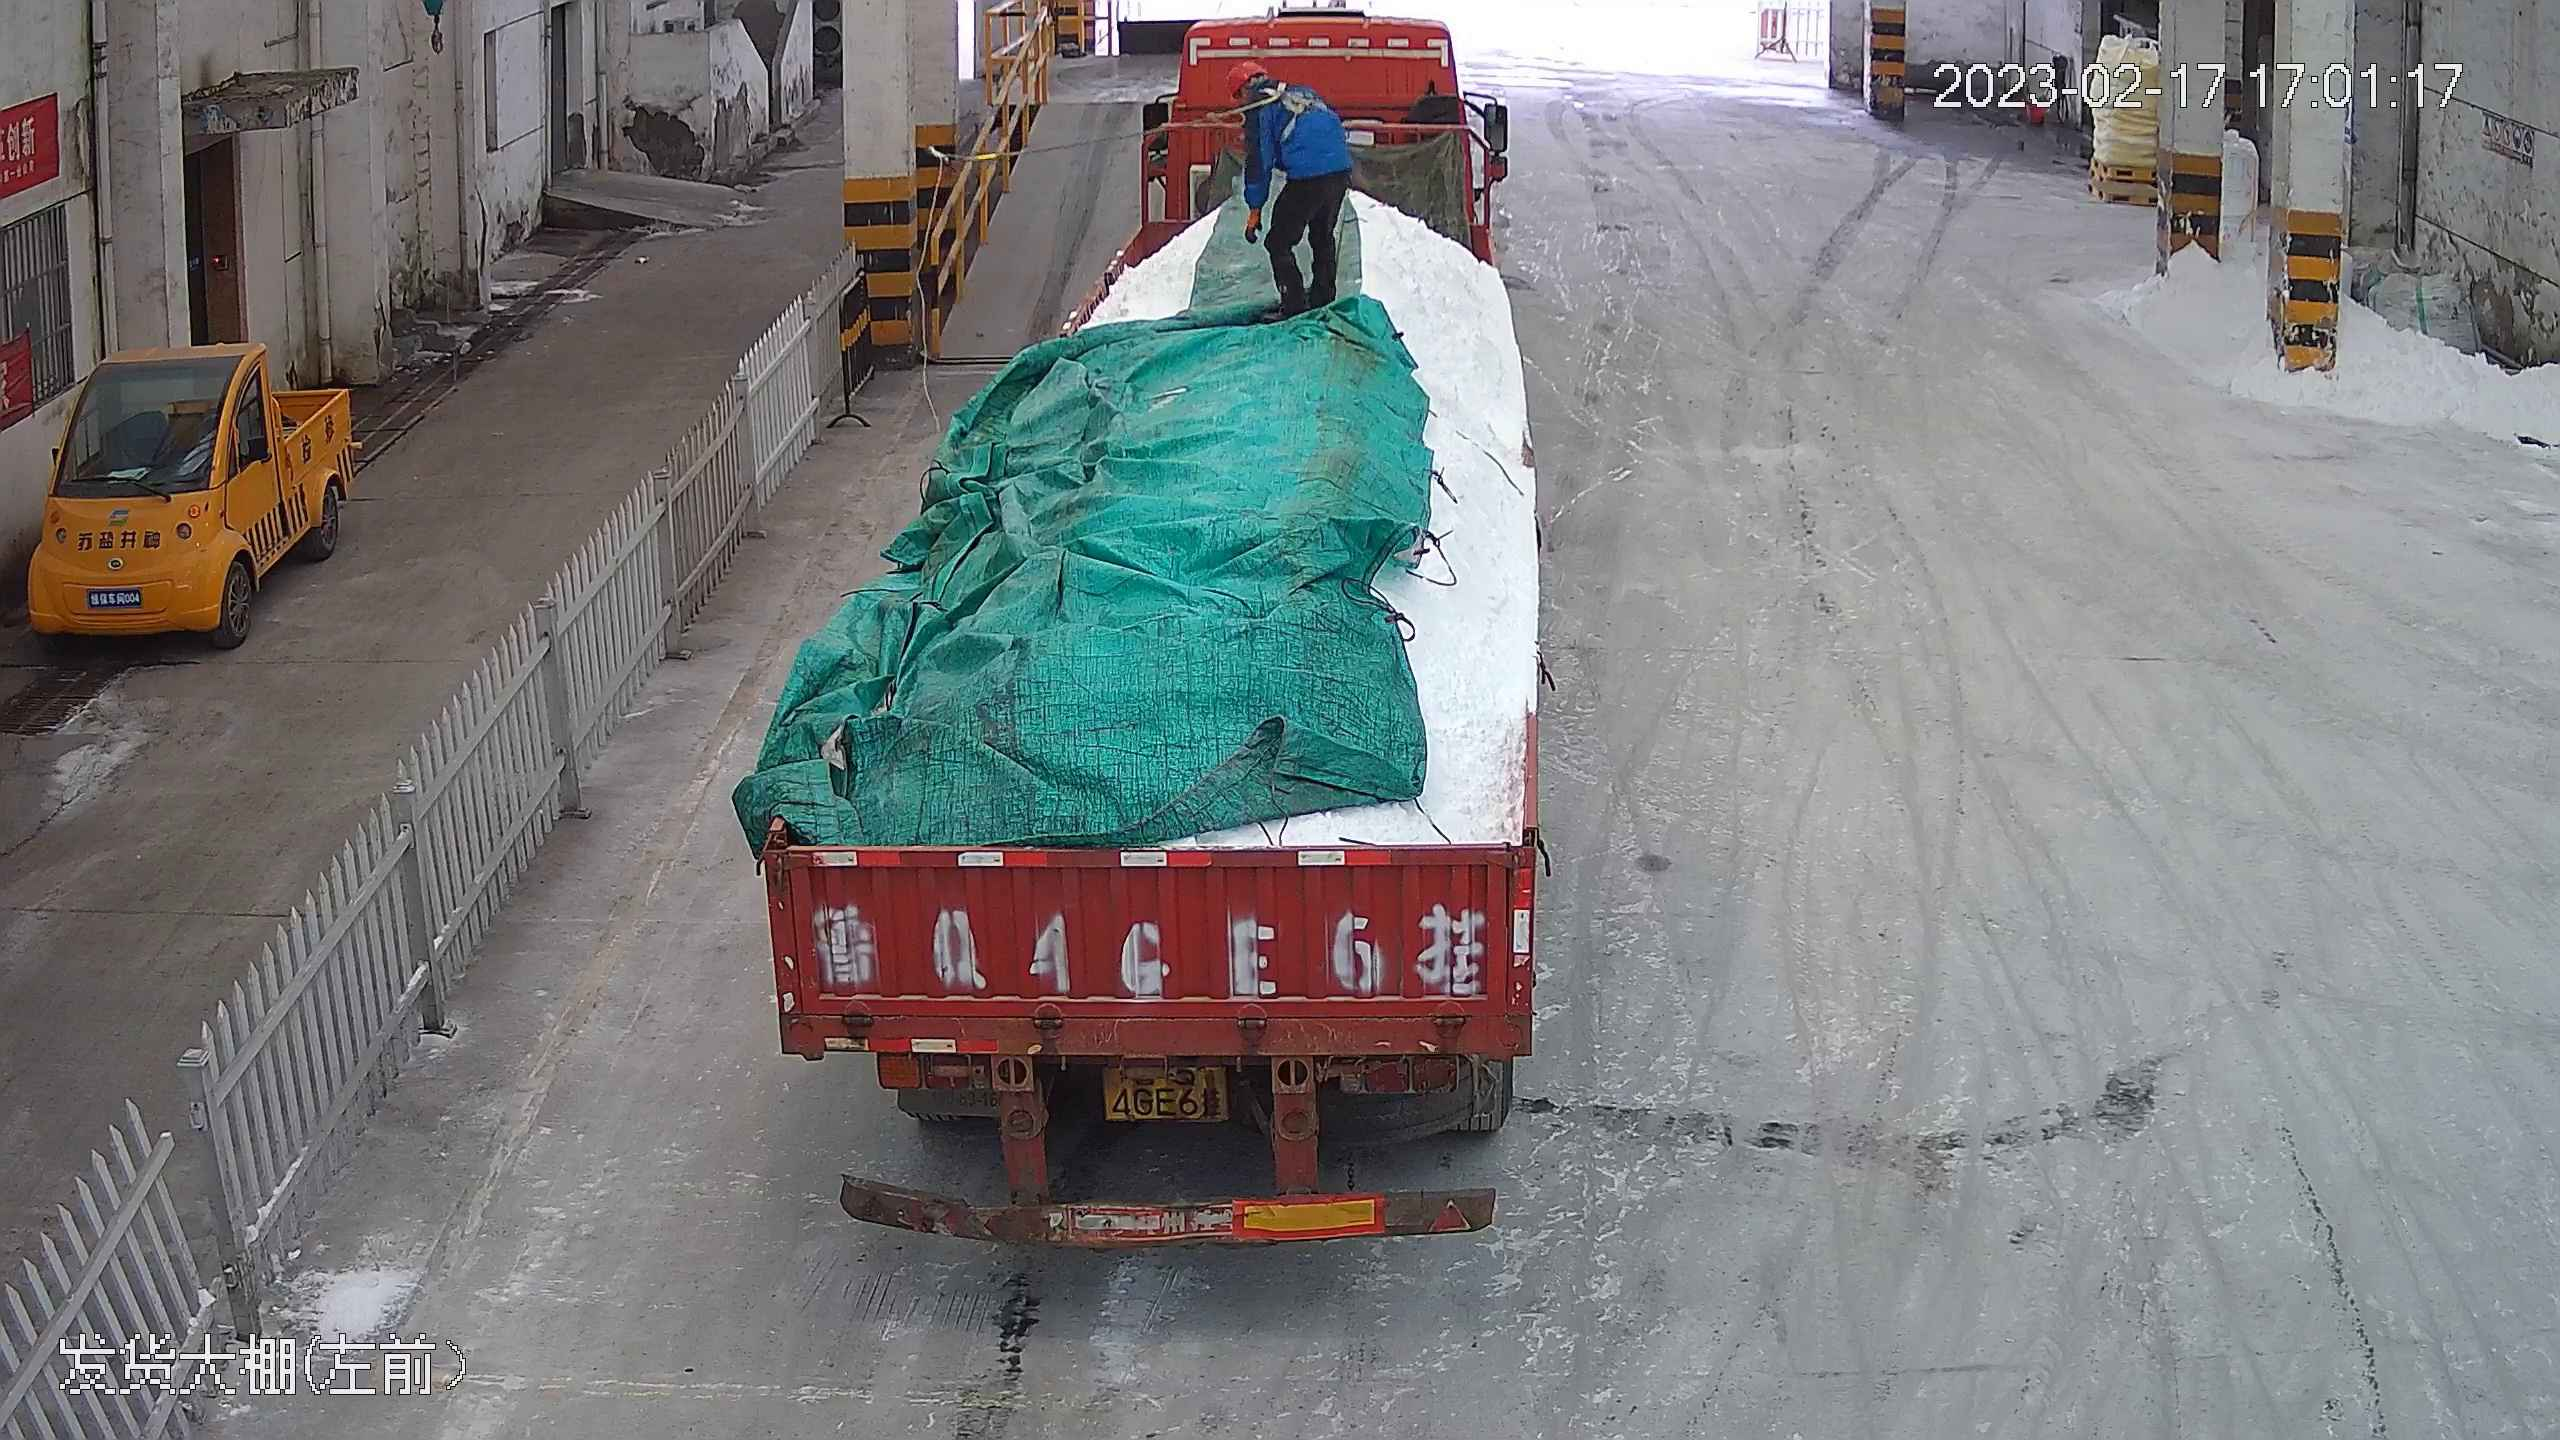belt: (1267, 86, 1339, 143)
head: (1227, 62, 1307, 120)
helmet: (1223, 64, 1267, 93)
people: (1218, 58, 1351, 318)
truck: (739, 1, 1560, 1283)
